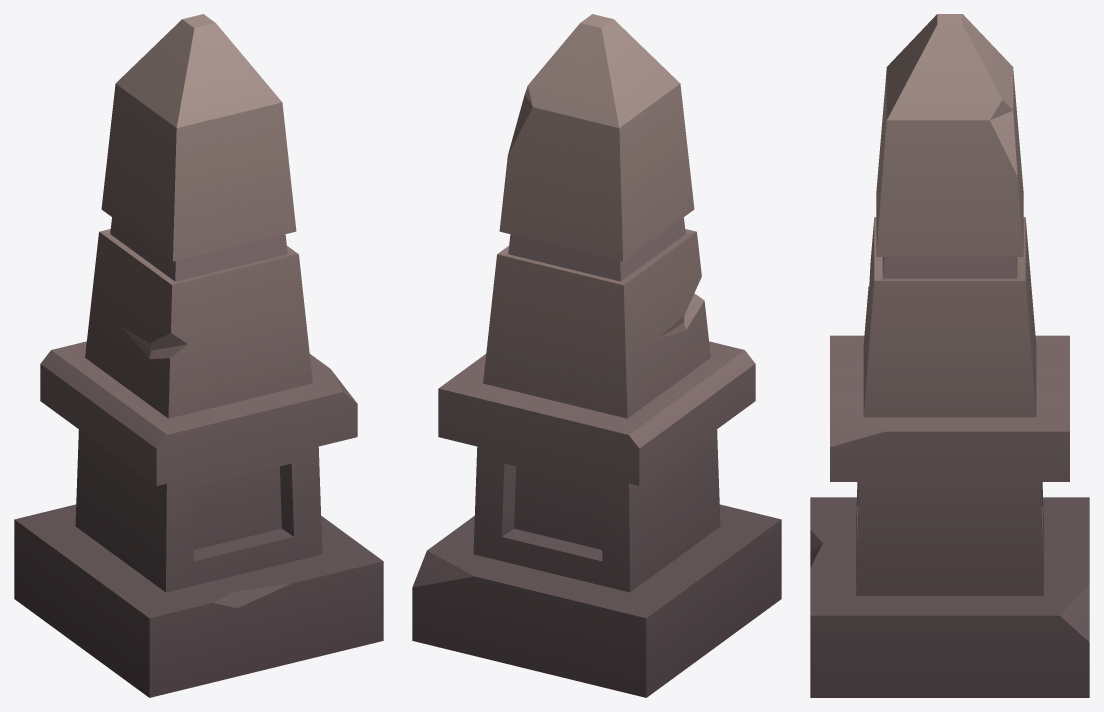
The model's file is obelisk2.glb.
3 renders of one model, left to right at view 1: azimuth 30°, elevation 25°; view 2: azimuth 150°, elevation 25°; view 3: azimuth 270°, elevation 25°, orthographic. The views are drawn at different scales.
Parts seen in each view (by area): view 1: obelisk2; view 2: obelisk2; view 3: obelisk2.
Boxes of the visible parts, bbox=[...] form: obelisk2: bbox=[14, 14, 383, 697]; obelisk2: bbox=[412, 14, 781, 697]; obelisk2: bbox=[810, 14, 1089, 697].
Size of the model in its own units: 0.8091 by 1.98 by 0.8091.
Materials: 1 (1 with a texture image).
